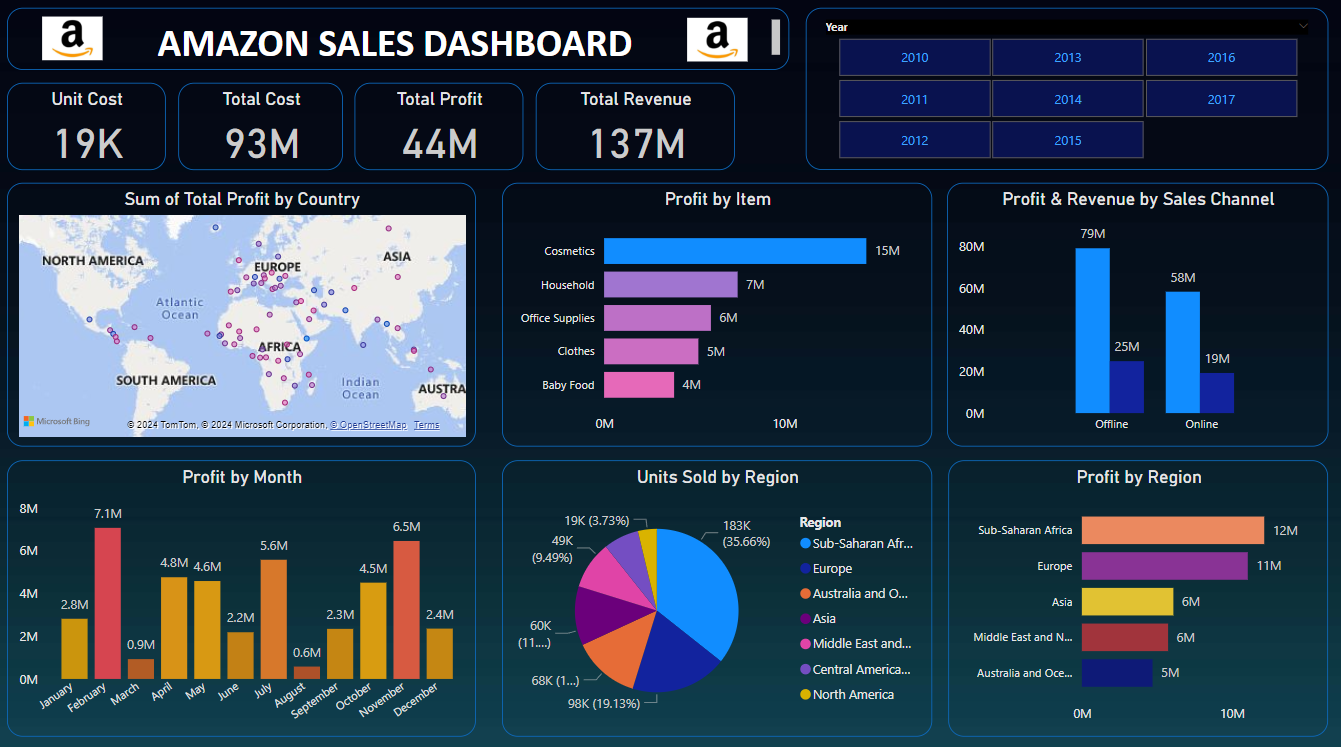

The dashboard page shown, as its layout file describes it:
{"tool":"powerbi","page":{"name":"Page 1","canvas":[1280,720],"ordinal":0},"visuals":[{"type":"textbox","box":[9.5,13.1,745,59.5],"z":0},{"type":"card","title":"Unit Cost","fields":{"Values":["Sum(Amazon Sales data.Unit Cost)"]},"box":[9.5,84.5,151.1,83.3],"z":1000},{"type":"card","title":" Total Cost","fields":{"Values":["Sum(Amazon Sales data.Total Cost)"]},"box":[172.6,84.5,157.1,83.3],"z":2000},{"type":"card","title":"Total Profit","fields":{"Values":["Sum(Amazon Sales data.Total Profit)"]},"box":[340.4,84.5,160.7,83.3],"z":3000},{"type":"card","title":"Total Revenue","fields":{"Values":["Sum(Amazon Sales data.Total Revenue)"]},"box":[512.9,84.5,189.2,83.3],"z":4000},{"type":"pieChart","title":"Units Sold by Region","fields":{"Y":["Sum(Amazon Sales data.Units Sold)"],"Category":["Amazon Sales data.Region"]},"box":[480.8,443.9,409.4,263],"z":5000},{"type":"image","box":[645,17.9,80.9,51.2],"z":6000},{"type":"image","box":[30.9,16.7,80.9,51.2],"z":7000},{"type":"barChart","title":"Profit by Region","fields":{"Y":["Sum(Amazon Sales data.Total Profit)"],"Category":["Amazon Sales data.Region"]},"box":[905.7,443.9,361.8,263],"z":8000},{"type":"clusteredColumnChart","title":" Profit by Month","fields":{"Y":["Sum(Amazon Sales data.Total Profit)"],"Category":["Amazon Sales data.Order Date.Variation.Date Hierarchy.Month"]},"box":[9.5,443.9,446.3,263],"z":9000},{"type":"slicer","fields":{"Values":["Amazon Sales data.Order Date.Variation.Date Hierarchy.Year"]},"box":[770,13.1,497.5,154.7],"z":10000},{"type":"clusteredBarChart","title":" Profit by Item","fields":{"Y":["Sum(Amazon Sales data.Total Profit)"],"Category":["Amazon Sales data.Item Type"]},"box":[480.8,179.7,409.4,251.1],"z":11000},{"type":"clusteredColumnChart","title":" Profit & Revenue by Sales Channel","fields":{"Category":["Amazon Sales data.Sales Channel"],"Y":["Sum(Amazon Sales data.Total Revenue)","Sum(Amazon Sales data.Total Profit)"]},"box":[904.5,179.7,363,251.1],"z":12000},{"type":"map","fields":{"Category":["Amazon Sales data.Country"],"Y":["Sum(Amazon Sales data.Total Profit)"]},"box":[9.5,179.7,446.3,251.1],"z":13000}]}

Visuals, with their boxes in screenshot pixels (x1, y1, x2, y2), scaled from the page's 1280x720 canvas onto the 1341x747 screenshot:
textbox: (left=10, top=14, right=790, bottom=75)
"Unit Cost" card: (left=10, top=88, right=168, bottom=174)
" Total Cost" card: (left=181, top=88, right=345, bottom=174)
"Total Profit" card: (left=357, top=88, right=525, bottom=174)
"Total Revenue" card: (left=537, top=88, right=736, bottom=174)
"Units Sold by Region" pieChart: (left=504, top=461, right=933, bottom=733)
image: (left=676, top=19, right=760, bottom=72)
image: (left=32, top=17, right=117, bottom=70)
"Profit by Region" barChart: (left=949, top=461, right=1328, bottom=733)
" Profit by Month" clusteredColumnChart: (left=10, top=461, right=478, bottom=733)
slicer - Amazon Sales data.Order Date.Variation.Date Hierarchy.Year: (left=807, top=14, right=1328, bottom=174)
" Profit by Item" clusteredBarChart: (left=504, top=186, right=933, bottom=447)
" Profit & Revenue by Sales Channel" clusteredColumnChart: (left=948, top=186, right=1328, bottom=447)
map - Amazon Sales data.Country x Sum(Amazon Sales data.Total Profit): (left=10, top=186, right=478, bottom=447)
